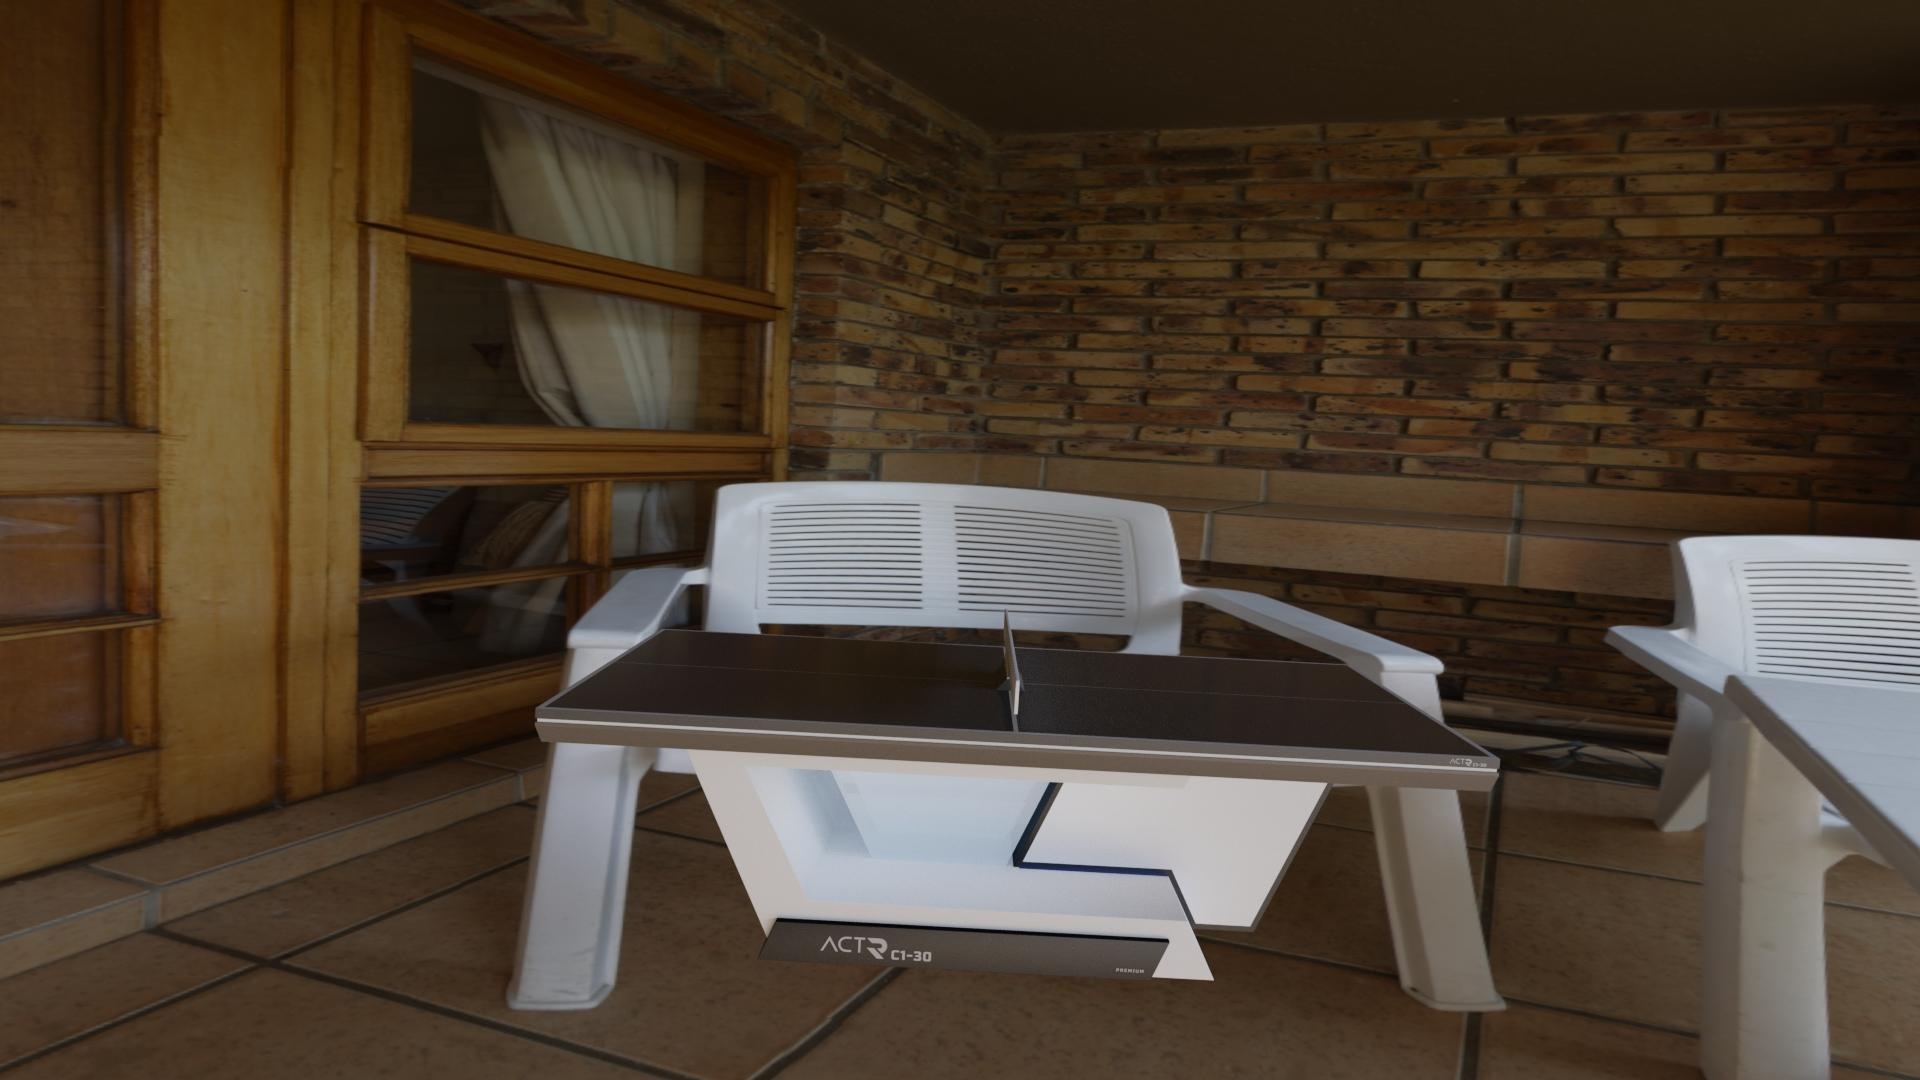table: (545, 630, 1490, 757)
